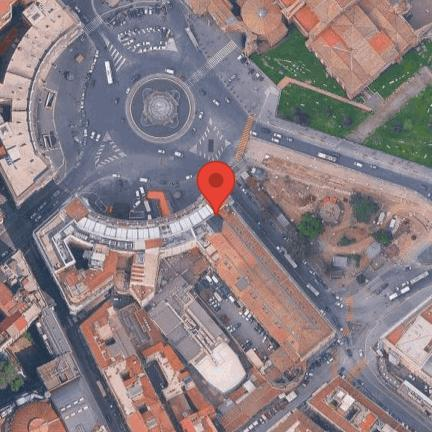area_open: (56, 20, 274, 208), (245, 156, 432, 292), (196, 265, 279, 370)
built: (195, 185, 339, 358), (80, 301, 225, 432), (0, 0, 87, 212), (272, 0, 432, 95), (36, 193, 126, 317), (99, 217, 212, 304), (268, 372, 417, 432), (0, 213, 56, 347), (376, 298, 432, 401), (185, 0, 293, 52), (0, 394, 65, 432), (37, 350, 83, 391)
vegetation_high: (0, 353, 25, 386)
vegetation_low: (367, 82, 432, 167), (251, 36, 341, 95), (279, 84, 369, 142), (378, 45, 432, 102)
